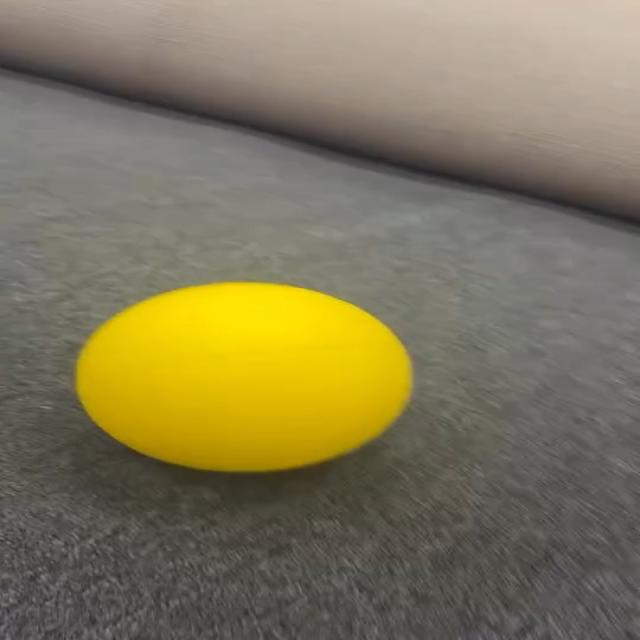Fuels: (77, 282, 413, 471)
